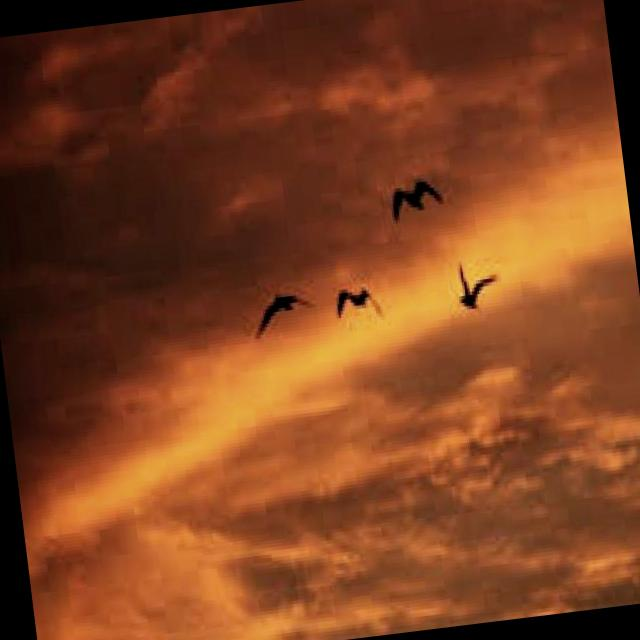bird: (242, 279, 324, 337), (384, 168, 460, 225), (444, 256, 512, 316), (324, 269, 390, 327)
